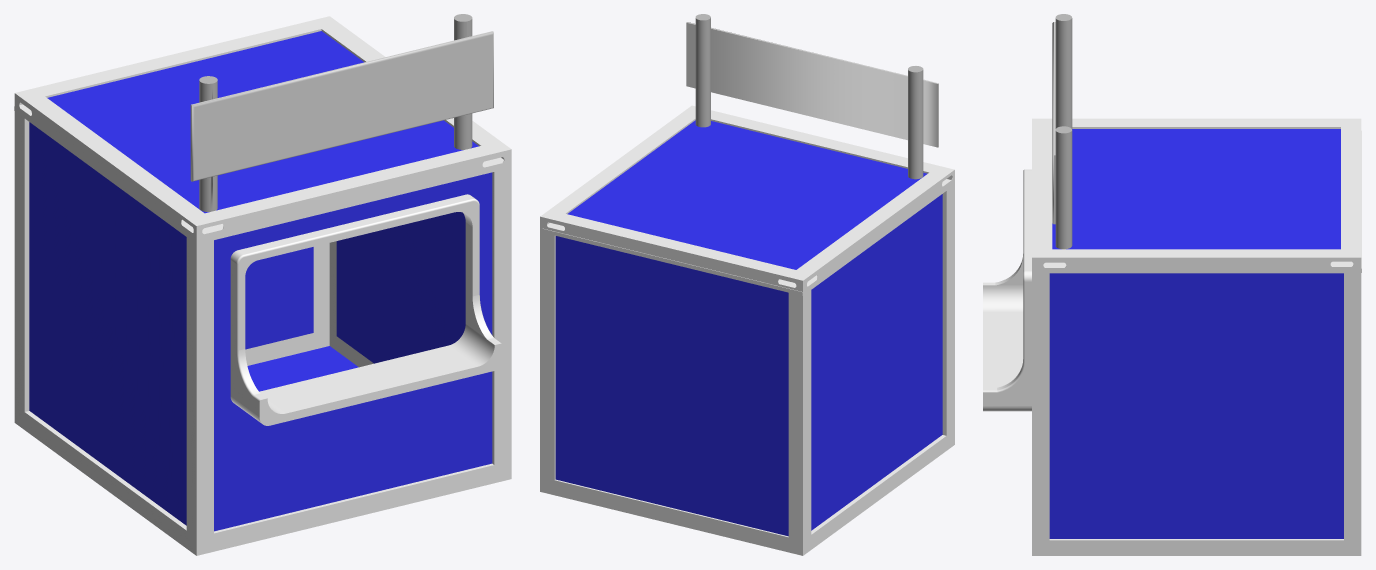
File: Upgrade Container.fbx
3 views of the same model, side by side, from view 1: azimuth 30°, elevation 25°; view 2: azimuth 150°, elevation 25°; view 3: azimuth 270°, elevation 25° (orthographic). The views are drawn at different scales.
Visible parts, largest first — view 1: Group1, Component_1_1, Group2; view 2: Group1, Component_1_1, Group2; view 3: Group1, Component_1_1.
Boxes of the visible parts, box(x1,y1,x2,y2) form: Group1: box(14, 16, 511, 555); Component_1_1: box(190, 14, 493, 211); Group2: box(14, 104, 508, 244); Group1: box(540, 105, 954, 555); Component_1_1: box(686, 14, 938, 179); Group2: box(542, 179, 954, 295); Group1: box(983, 118, 1361, 555); Component_1_1: box(1052, 14, 1072, 249).
Bounding box in the file's own units: 207 × 286 × 238.
